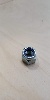Nut: (21, 46, 38, 66)
